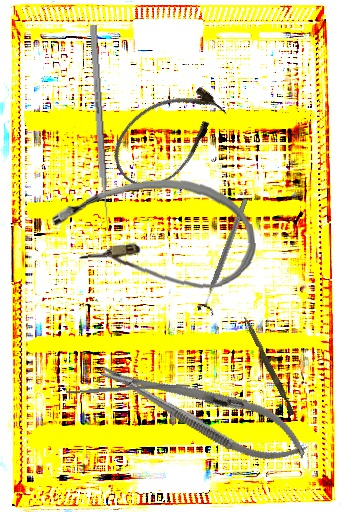Cannula: (50, 174, 258, 298), (98, 70, 238, 202)
Fixation Ring: (195, 194, 255, 317)
Needle Holder: (92, 344, 316, 477)
Pusher: (239, 316, 298, 416), (88, 24, 112, 232)
Scalpel Handle: (65, 382, 191, 395)
